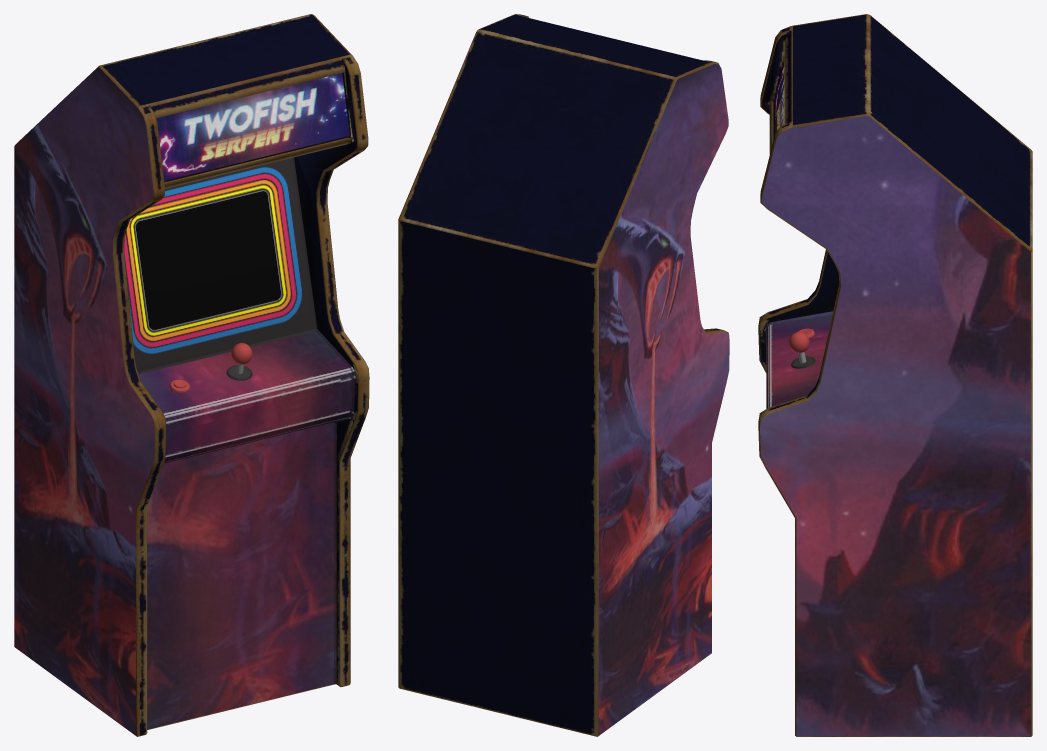
The model's file is arcade_cabinet.fbx.
The picture shows the model from 3 angles, left to right: view 1: azimuth 30°, elevation 25°; view 2: azimuth 150°, elevation 25°; view 3: azimuth 270°, elevation 25°; orthographic projection. The views are drawn at different scales.
Visible parts, largest first — view 1: defaultMaterial, defaultMaterial.001, defaultMaterial.002; view 2: defaultMaterial.001, defaultMaterial; view 3: defaultMaterial, defaultMaterial.001, defaultMaterial.002.
Part boxes in pixels (x1=…): defaultMaterial: x1=14, y1=67, x2=355, y2=735; defaultMaterial.001: x1=15, y1=14, x2=369, y2=736; defaultMaterial.002: x1=124, y1=157, x2=317, y2=392; defaultMaterial.001: x1=398, y1=14, x2=728, y2=736; defaultMaterial: x1=598, y1=64, x2=729, y2=735; defaultMaterial: x1=760, y1=63, x2=1030, y2=736; defaultMaterial.001: x1=758, y1=14, x2=1032, y2=736; defaultMaterial.002: x1=789, y1=328, x2=815, y2=368.
Bounding box in the file's own units: 65.12 × 187 × 74.48.
3 materials, 3 textured.
